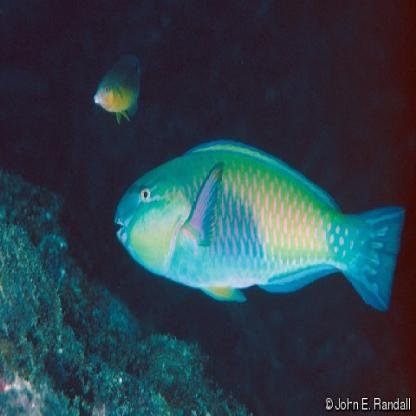Scaridae -Parrotfishes-: (110, 131, 405, 320)
